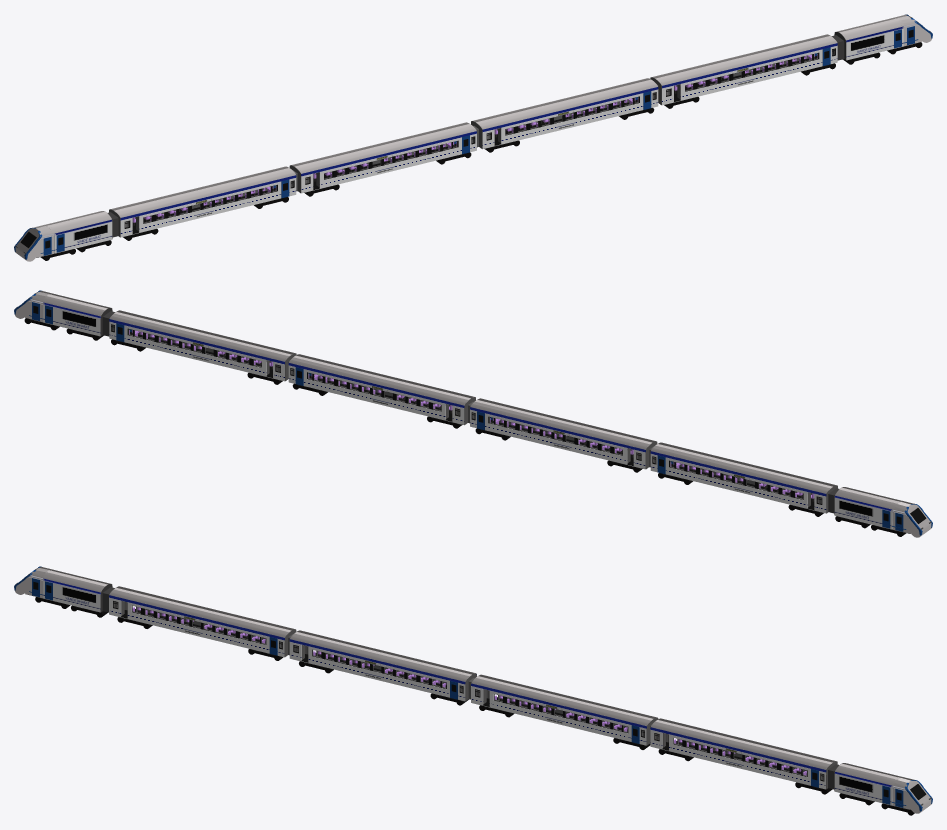
The model's file is vande_bharat_express.glb.
3 views of the same model, one above another, from view 1: azimuth 30°, elevation 25°; view 2: azimuth 150°, elevation 25°; view 3: azimuth 330°, elevation 25° (orthographic).
Parts seen in each view (by area): view 1: Object_19, Object_10, Object_11, Object_15, Object_4, Object_9, Object_16, Object_3, Object_6, Object_7, Object_13, Object_17; view 2: Object_19, Object_10, Object_11, Object_15, Object_4, Object_9, Object_16, Object_3, Object_7, Object_6, Object_12, Object_17; view 3: Object_19, Object_10, Object_11, Object_15, Object_4, Object_9, Object_16, Object_3, Object_7, Object_6, Object_13.
Part boxes in pixels (<box>): Object_19: <box>15,14,931,261</box>; Object_10: <box>120,46,837,237</box>; Object_11: <box>120,43,837,222</box>; Object_15: <box>109,49,835,237</box>; Object_4: <box>20,16,924,257</box>; Object_9: <box>49,42,922,257</box>; Object_16: <box>132,54,817,222</box>; Object_3: <box>14,14,932,259</box>; Object_6: <box>40,219,112,253</box>; Object_7: <box>846,23,917,60</box>; Object_13: <box>124,48,835,228</box>; Object_17: <box>132,57,814,225</box>; Object_19: <box>15,290,931,537</box>; Object_10: <box>109,322,826,513</box>; Object_11: <box>109,319,826,497</box>; Object_15: <box>111,325,837,513</box>; Object_4: <box>22,292,926,533</box>; Object_9: <box>24,318,897,533</box>; Object_16: <box>129,330,814,498</box>; Object_3: <box>14,290,932,535</box>; Object_7: <box>834,495,906,529</box>; Object_6: <box>29,299,100,336</box>; Object_12: <box>128,328,803,499</box>; Object_17: <box>132,333,814,501</box>; Object_19: <box>15,566,931,813</box>; Object_10: <box>109,598,825,789</box>; Object_11: <box>109,595,826,774</box>; Object_15: <box>109,586,837,789</box>; Object_4: <box>22,568,926,809</box>; Object_9: <box>41,598,914,815</box>; Object_16: <box>132,607,806,775</box>; Object_3: <box>14,566,932,811</box>; Object_7: <box>834,771,906,805</box>; Object_6: <box>29,575,100,612</box>; Object_13: <box>113,601,824,781</box>.
Size of the model in its own units: 65.3 by 2.03 by 1.54.
Materials: 16 (4 with a texture image).
